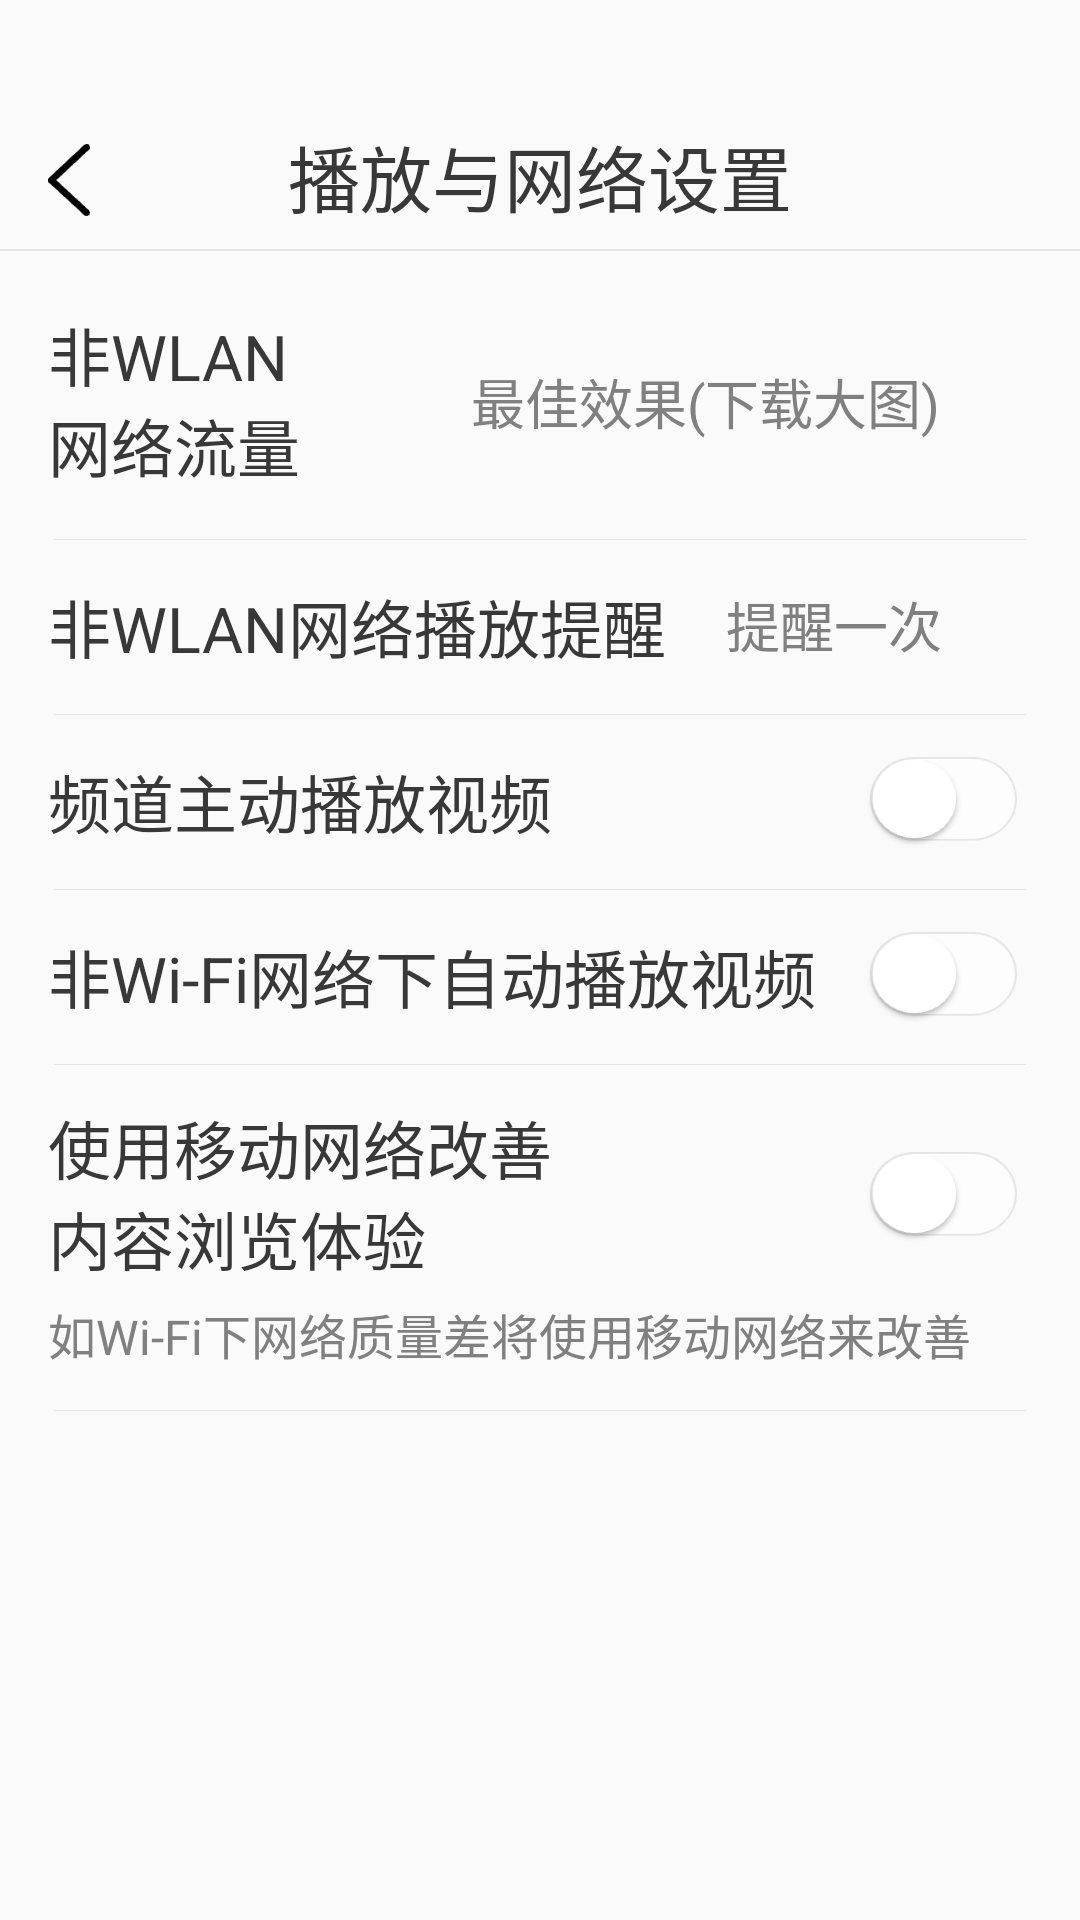

Where to tap for icons on this 1080×1920 app screen, as (x,y):
back: (69,180)
